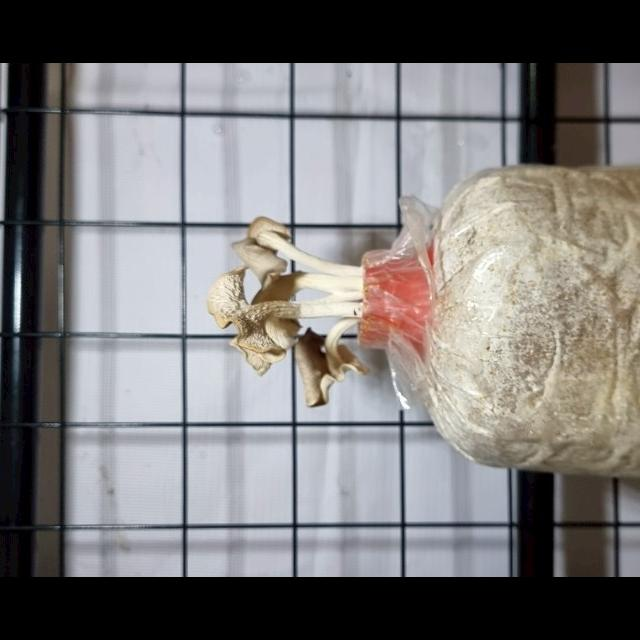abnormal: (277, 312, 386, 417), (222, 207, 369, 280), (199, 279, 369, 342), (226, 302, 367, 377)
